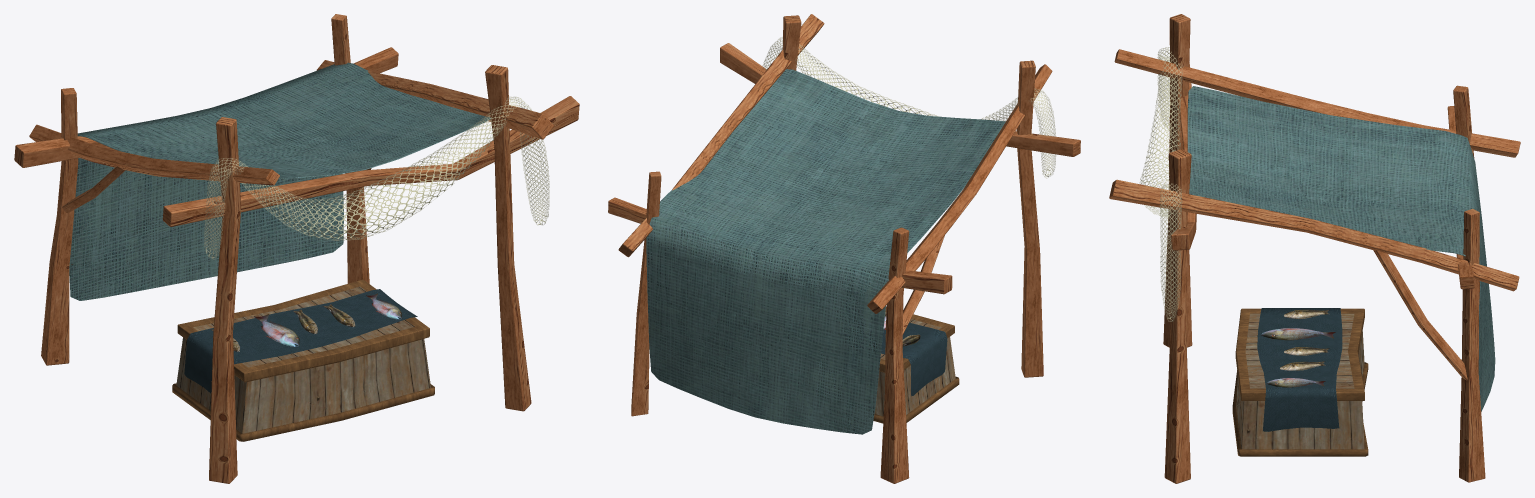
File: RC_Market_Shop_04.gltf
3 renders of one model, left to right at view 1: azimuth 30°, elevation 25°; view 2: azimuth 150°, elevation 25°; view 3: azimuth 270°, elevation 25°, orthographic. The views are drawn at different scales.
Parts seen in each view (by area): view 1: RC_Market_Tent_04, RC_Market_Table_04, RC_Fish_011; view 2: RC_Market_Tent_04, RC_Market_Table_04; view 3: RC_Market_Tent_04, RC_Market_Table_04, RC_Fish_011.
Boxes of the visible parts, x1,y1,x2,y2 form: RC_Market_Tent_04: (14,14,579,483); RC_Market_Table_04: (172,279,434,441); RC_Fish_011: (254,314,299,346); RC_Market_Tent_04: (608,14,1080,483); RC_Market_Table_04: (873,307,959,423); RC_Market_Tent_04: (1109,14,1520,483); RC_Market_Table_04: (1232,308,1368,456); RC_Fish_011: (1261,328,1335,340).
Size of the model in its own units: 6.14 by 5.12 by 5.79.
Materials: 8 (8 with a texture image).
